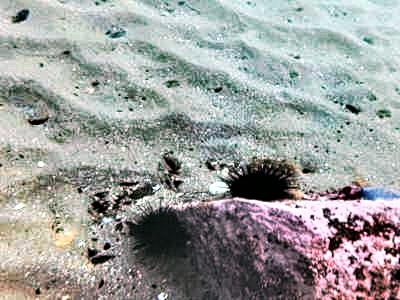urchin: (126, 199, 187, 259), (223, 161, 297, 204)
